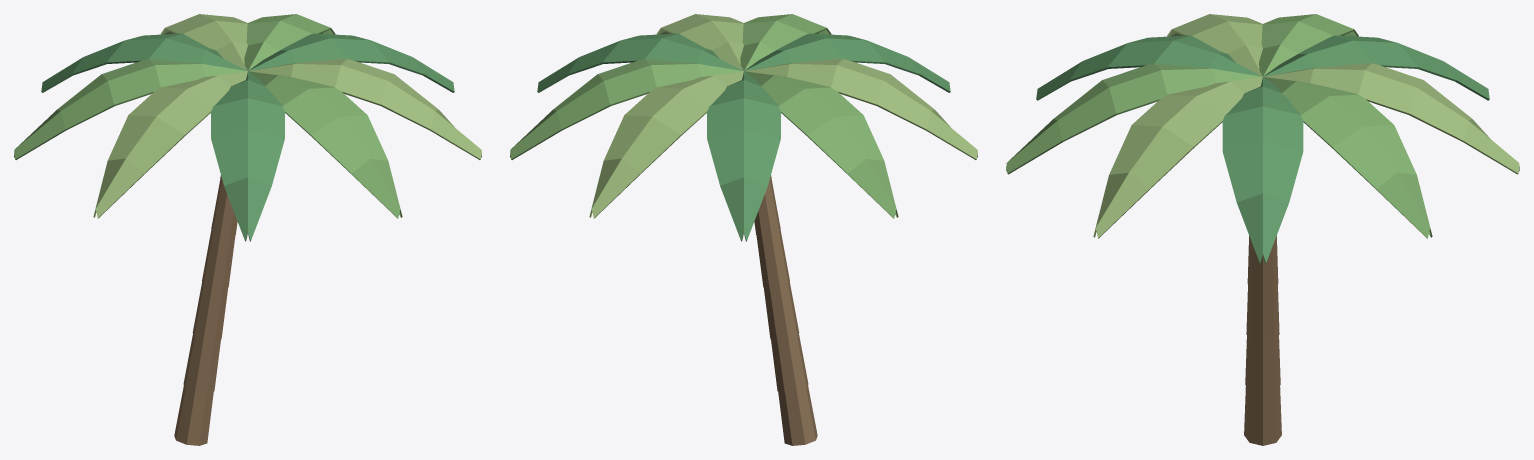
The model's file is palm.glb.
3 views of the same model, side by side, from view 1: azimuth 30°, elevation 25°; view 2: azimuth 150°, elevation 25°; view 3: azimuth 270°, elevation 25° (orthographic). The views are drawn at different scales.
Visible parts, largest first — view 1: Palm leaf 1, Palm leaf 2, Palm leaf 0, Palm bark; view 2: Palm leaf 1, Palm leaf 2, Palm leaf 0, Palm bark; view 3: Palm leaf 1, Palm leaf 2, Palm leaf 0, Palm bark.
Part boxes in pixels (x1=…): Palm leaf 1: x1=14, y1=14, x2=402, y2=218; Palm leaf 2: x1=93, y1=14, x2=481, y2=218; Palm leaf 0: x1=41, y1=33, x2=454, y2=241; Palm bark: x1=174, y1=175, x2=237, y2=445; Palm leaf 1: x1=510, y1=14, x2=898, y2=218; Palm leaf 2: x1=589, y1=14, x2=977, y2=218; Palm leaf 0: x1=537, y1=33, x2=950, y2=241; Palm bark: x1=754, y1=175, x2=817, y2=445; Palm leaf 1: x1=1006, y1=14, x2=1432, y2=238; Palm leaf 2: x1=1093, y1=14, x2=1519, y2=238; Palm leaf 0: x1=1036, y1=35, x2=1489, y2=263; Palm bark: x1=1244, y1=235, x2=1281, y2=445.
Bounding box in the file's own units: 5.86 × 5.2 × 5.95.
